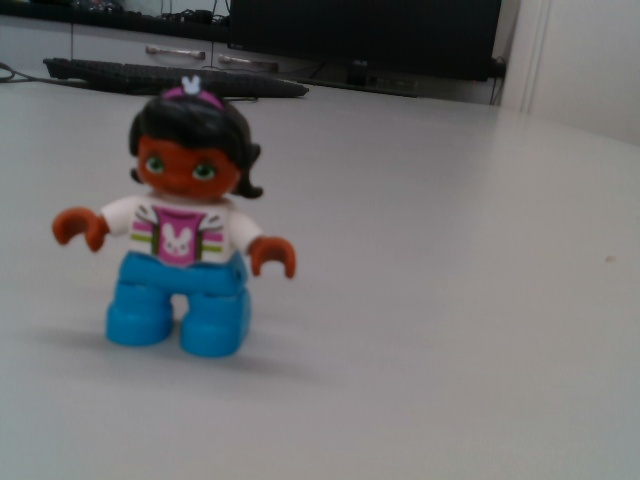people: (47, 73, 296, 365)
